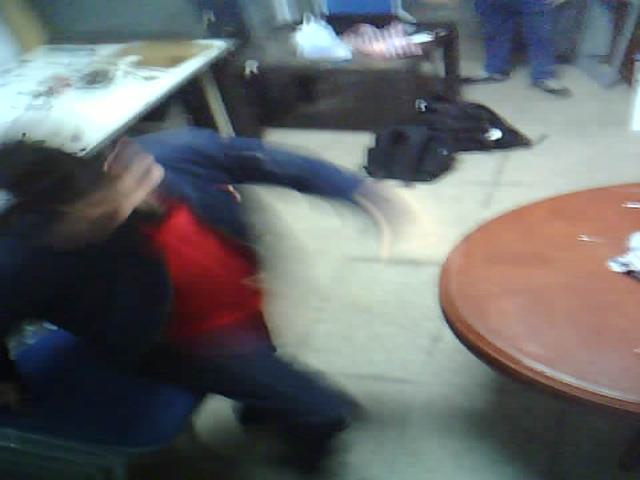person: (2, 99, 425, 480), (440, 0, 588, 115)
